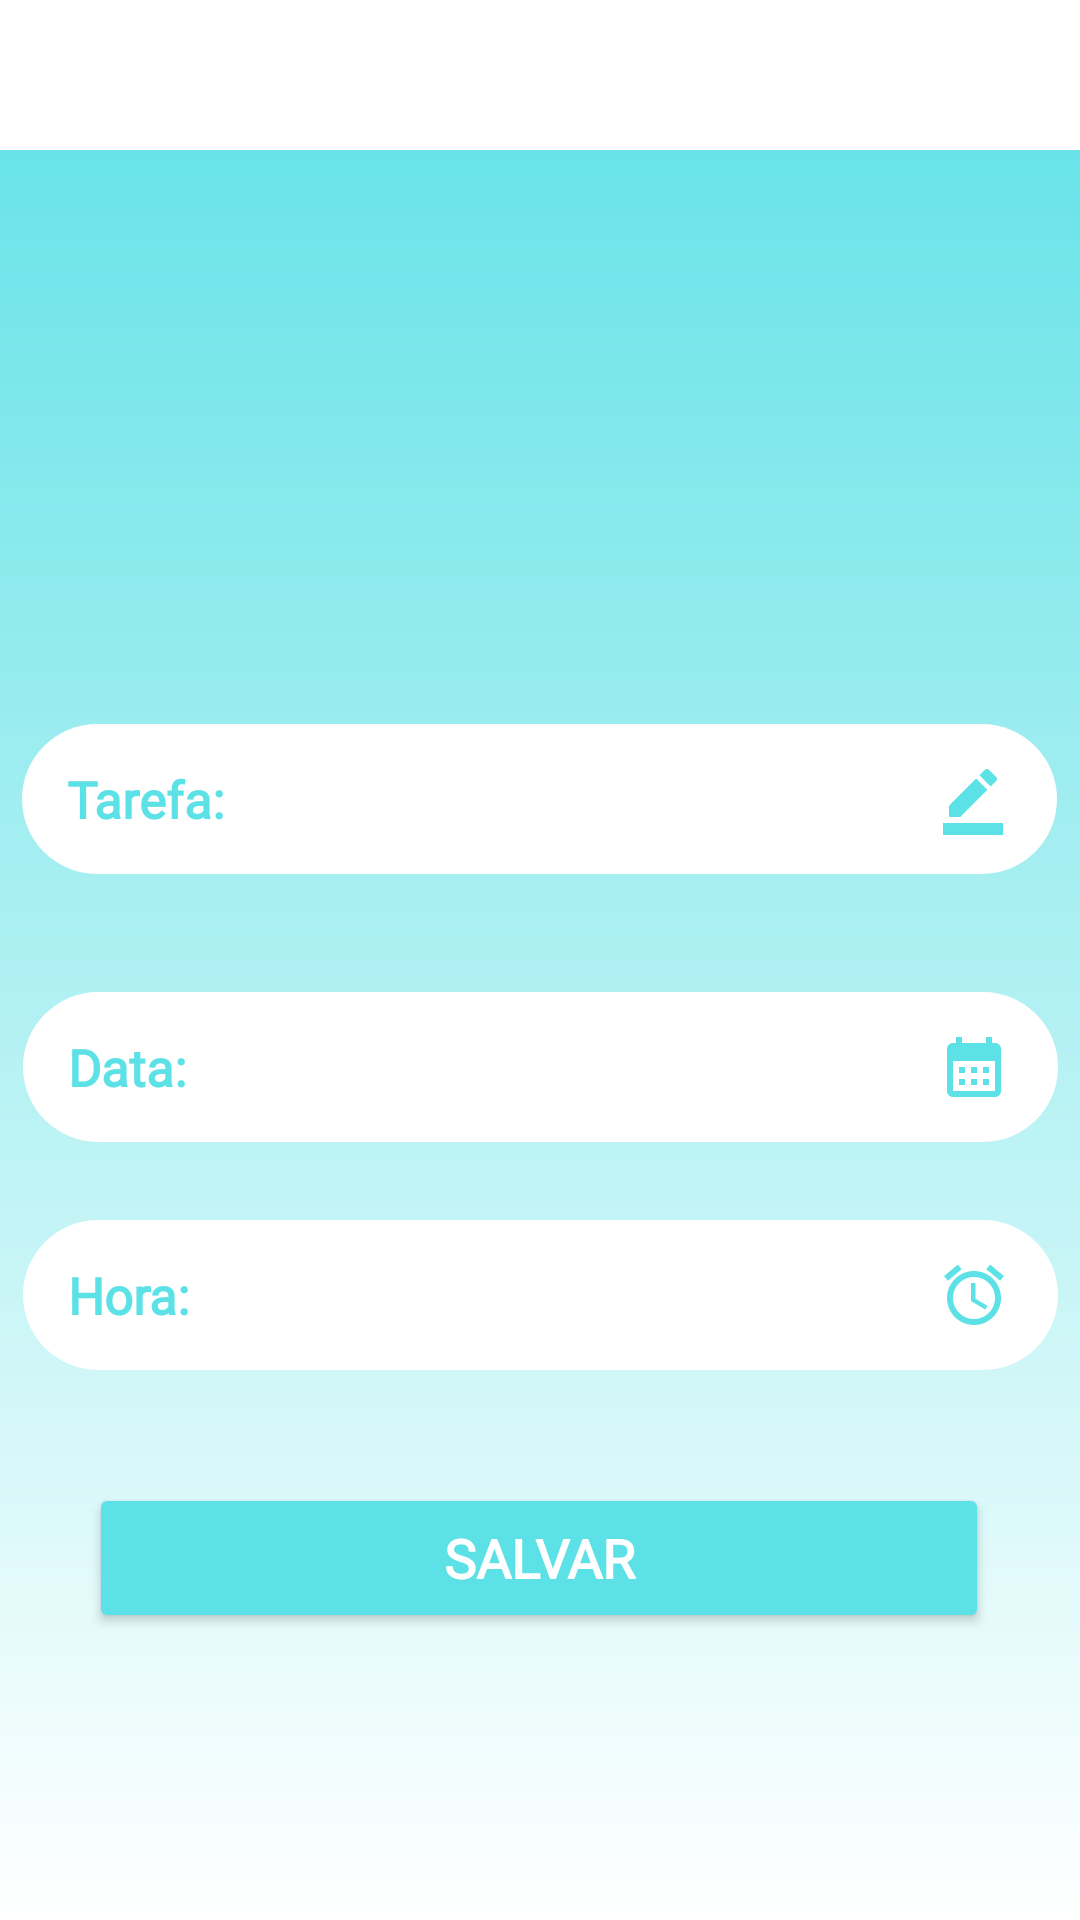

Icon bounding boxes for this 1080*1920 phone screenshot, format (x1, y1, x2, y2):
access alarm: (944, 1265, 1004, 1325)
calendar month: (947, 1037, 1001, 1097)
